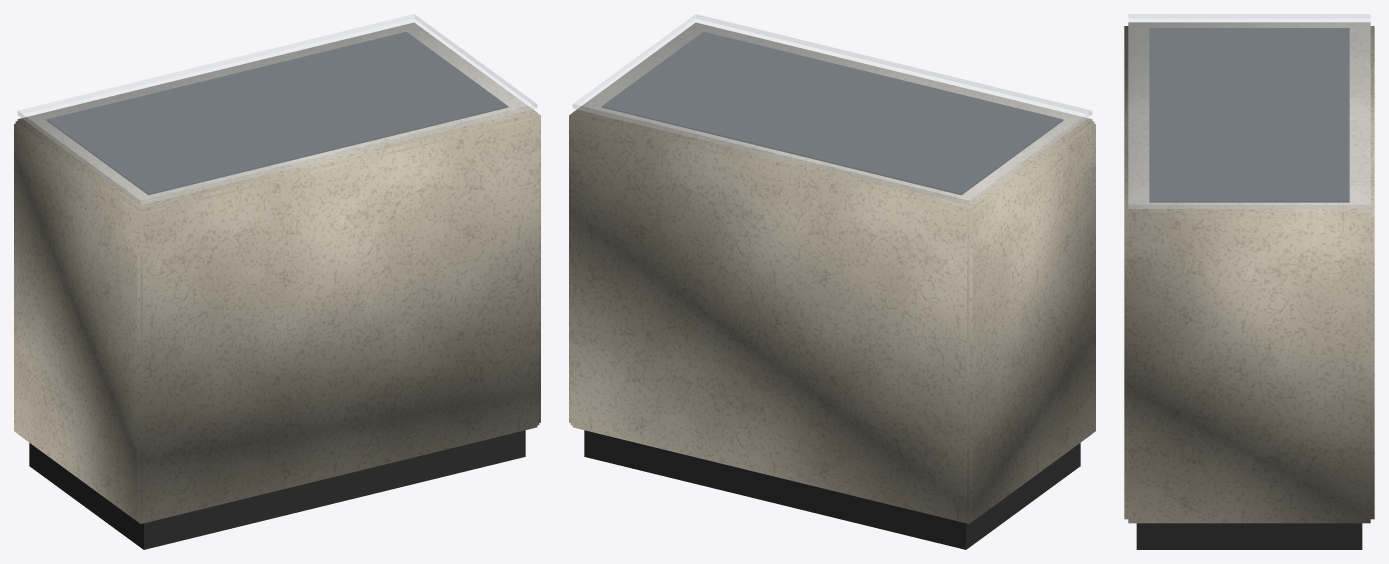
Rendered from data_plinth.glb.
The picture shows the model from 3 angles, left to right: view 1: azimuth 30°, elevation 25°; view 2: azimuth 150°, elevation 25°; view 3: azimuth 270°, elevation 25°; orthographic projection.
Parts seen in each view (by area): view 1: data_plinth; view 2: data_plinth; view 3: data_plinth.
Part boxes in pixels (x1,y1,x2,y2): data_plinth: (14,14,540,549); data_plinth: (569,14,1095,549); data_plinth: (1124,14,1374,549).
Bounding box in the file's own units: 1.1 × 0.9221 × 0.6.
Materials: 4 (1 with a texture image).
